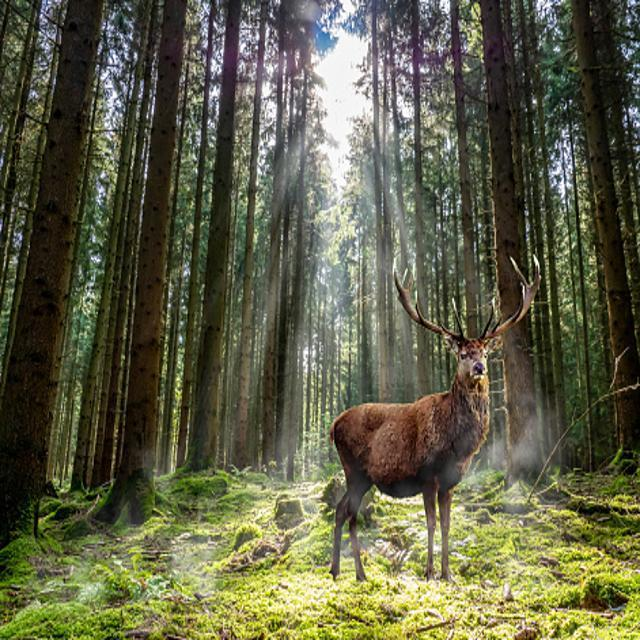Deer: (320, 273, 550, 595)
